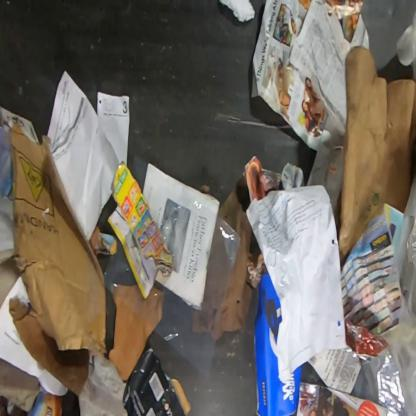cardboard: (9, 125, 107, 397), (338, 44, 415, 269), (108, 160, 174, 298), (255, 271, 303, 415), (109, 284, 164, 382), (0, 358, 42, 414)
metal: (122, 348, 188, 415)
soft_plastic: (132, 155, 242, 378), (346, 178, 415, 415), (103, 236, 137, 292)
